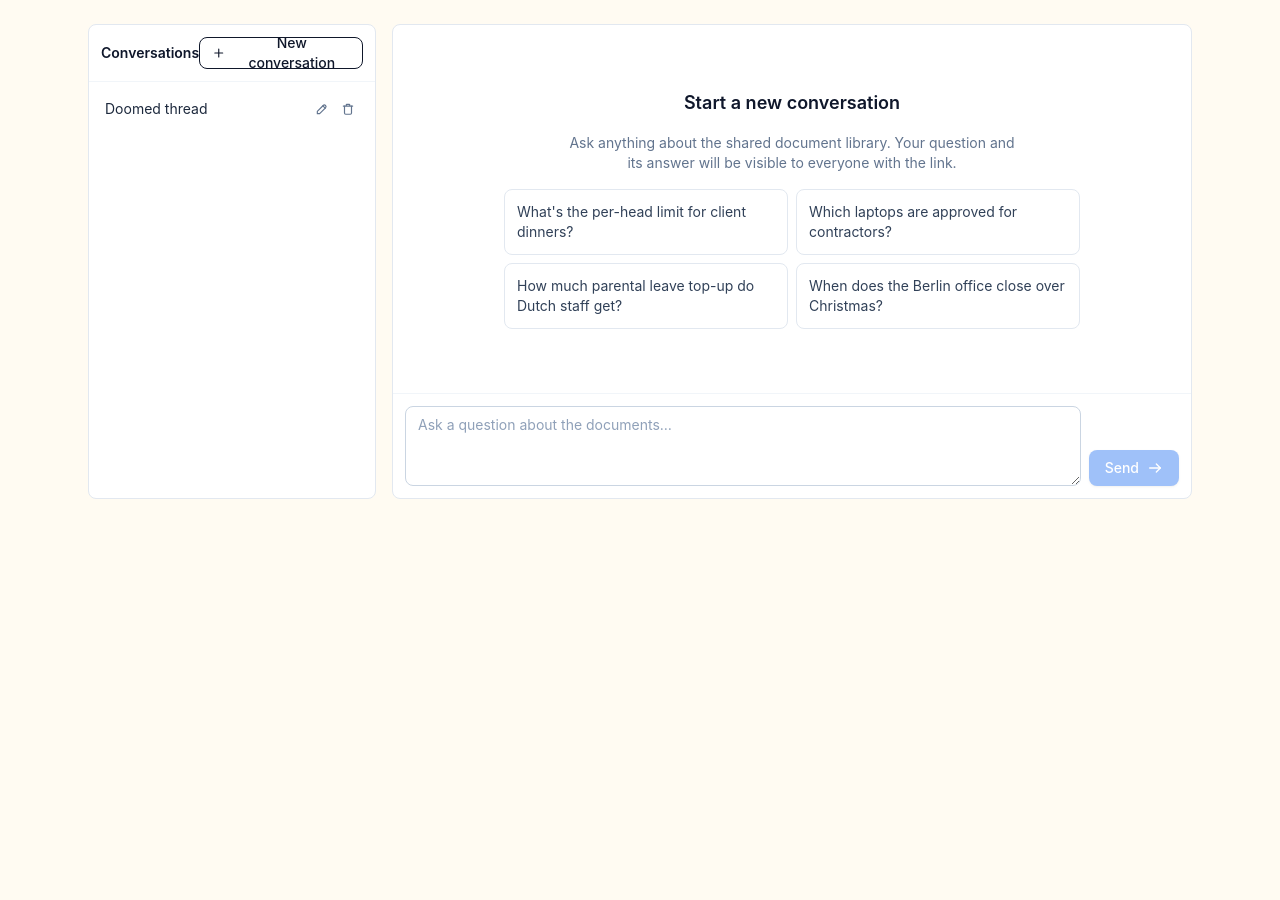
Chat screen — live threads API › shows a permanent-deletion warning, deletes via the API, and removes the thread from the sidebar
This screenshot has width=1280, height=900.
expect the button "Doomed thread" is shown: met, box [105,99,307,119]
Click the button named "Delete Doomed thread".
click(348, 109)  # box [337,98,359,120]
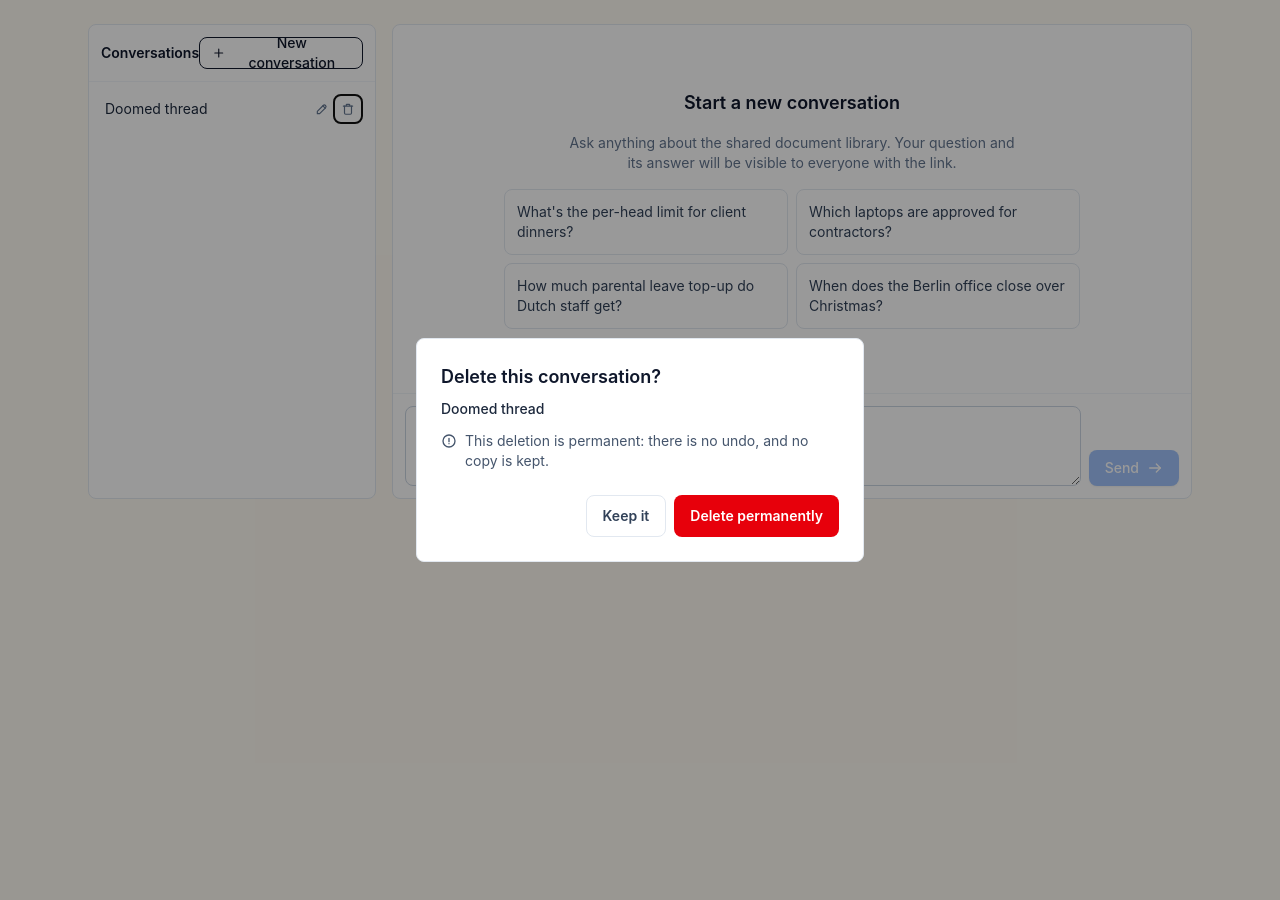
expect the text "no undo" is shown: met, box [465,432,808,469]
Click the button "Delete permanently".
click(757, 516)  # box [674,495,839,537]
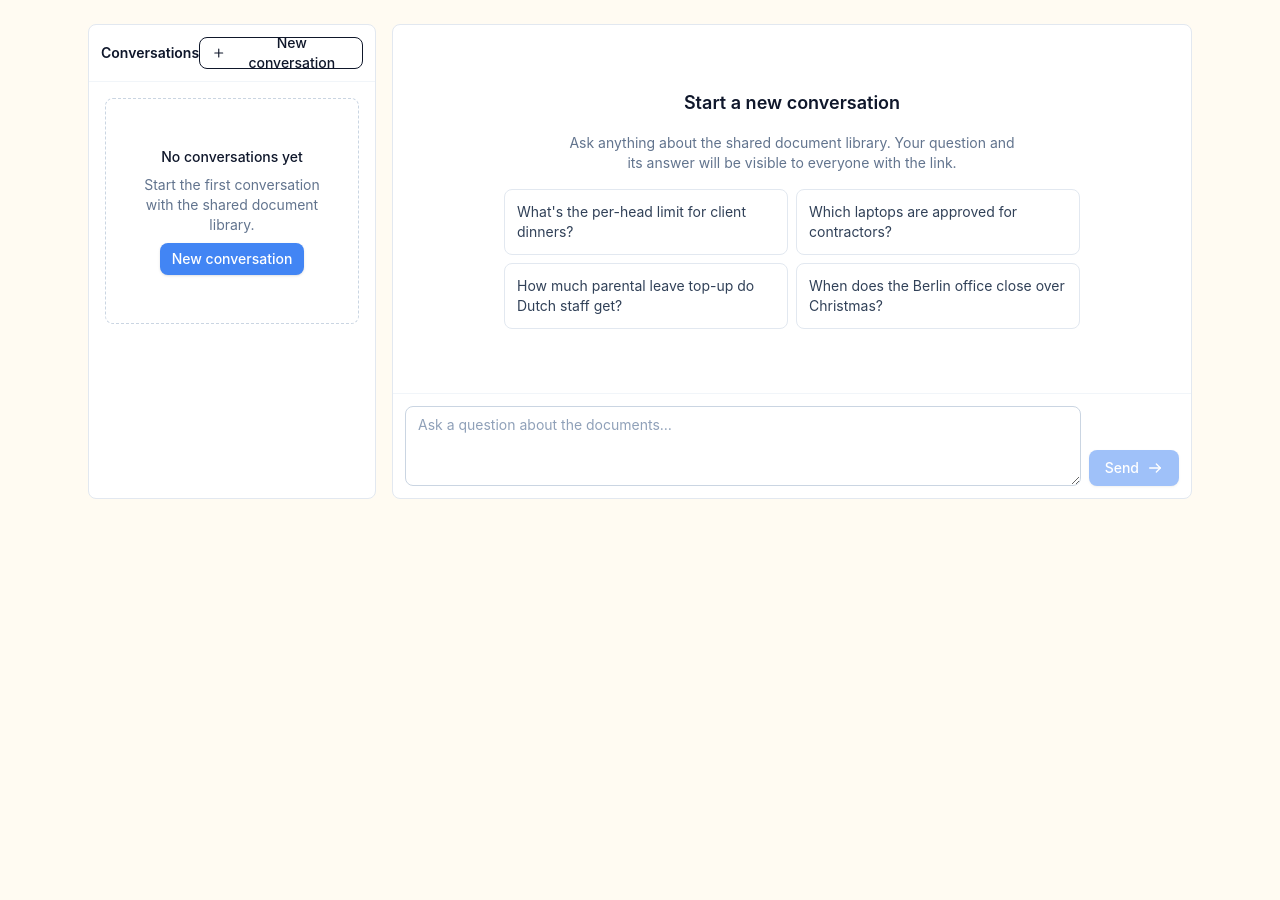
expect the button "Doomed thread" is gone: met
